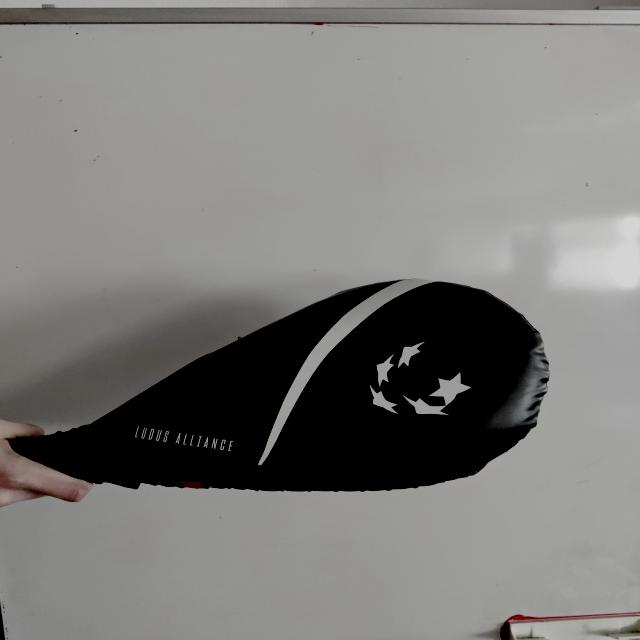paddle: (10, 278, 551, 492)
